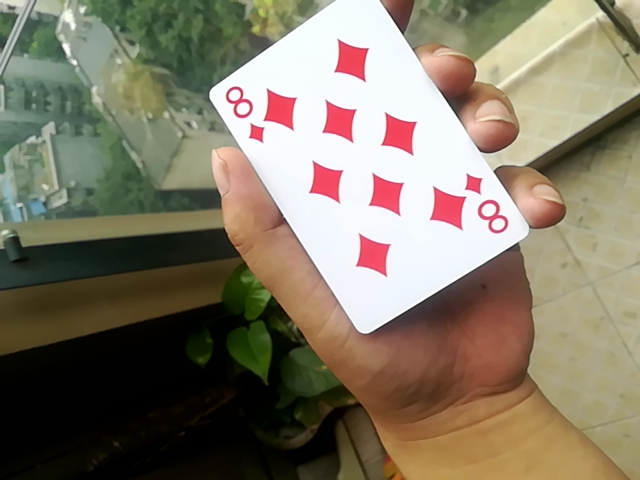fk 8: (213, 0, 527, 346)
